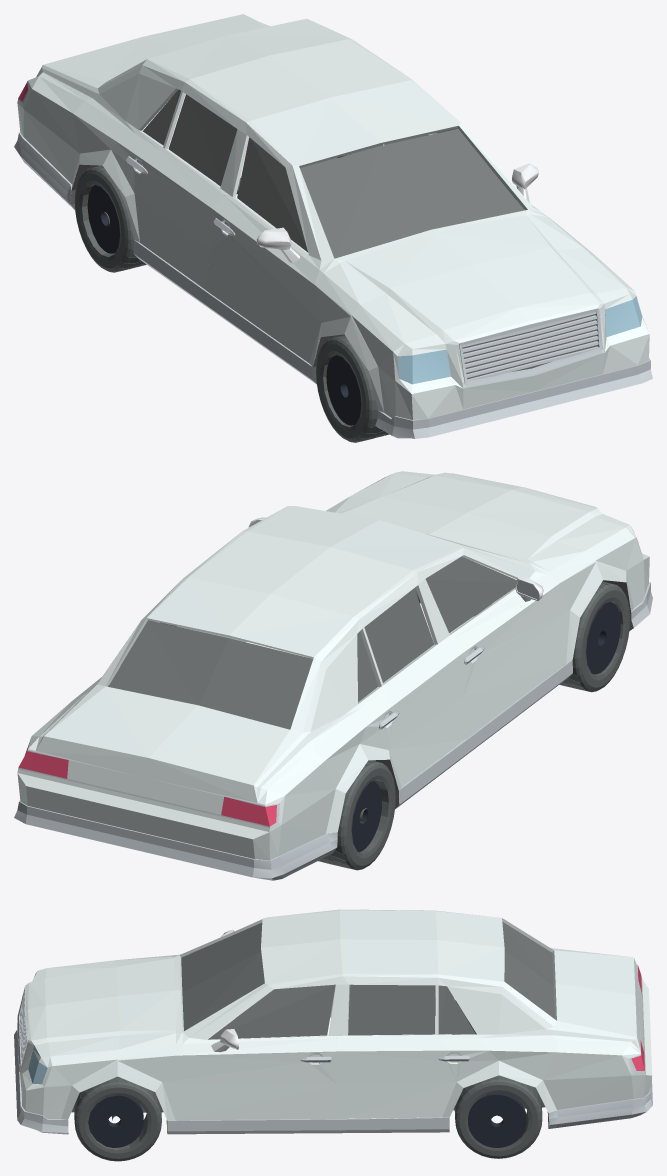
The picture shows the model from 3 angles, top to bottom: view 1: azimuth 30°, elevation 25°; view 2: azimuth 150°, elevation 25°; view 3: azimuth 270°, elevation 25°; orthographic projection. The views are drawn at different scales.
Visible parts, largest first — view 1: Body_2_3_White Parts_0, Windows_5_Glass_0, Doorsteps_Metal_0, Radiator_5_Metal_1, Tire_back_R_2_Gum_0, Tire_front_R_3_Gum_0, Headlights_5_Lights_0, Radiator_5_Bumper_0, Cylinder001, Cylinder002, Mirrors_3_Metal_1; view 2: Body_2_3_White Parts_0, Windows_5_Glass_0, Doorsteps_Metal_0, Tire_back_R_2_Gum_0, Tire_front_R_3_Gum_0, Stoplights_5_Lights_0, Cylinder001, Cylinder002, Stoplights_chrome_Metal_0; view 3: Body_2_3_White Parts_0, Windows_5_Glass_0, Doorsteps_Metal_0, Tire_front_L_3_Gum_0, Tire_back_L_3_Gum_0, Cylinder004, Cylinder003, Radiator_5_Metal_1, Mirrors_3_Metal_1, Headlights_5_Lights_0, Door_handles_3_Metal_0.
Boxes of the visible parts, x1,y1,x2,y2 form: Body_2_3_White Parts_0: [17, 14, 649, 419]; Windows_5_Glass_0: [143, 89, 524, 258]; Doorsteps_Metal_0: [14, 131, 652, 438]; Radiator_5_Metal_1: [459, 308, 602, 386]; Tire_back_R_2_Gum_0: [74, 165, 146, 272]; Tire_front_R_3_Gum_0: [316, 335, 398, 442]; Headlights_5_Lights_0: [397, 296, 641, 384]; Radiator_5_Bumper_0: [462, 314, 597, 379]; Cylinder001: [326, 355, 361, 425]; Cylinder002: [87, 185, 120, 253]; Mirrors_3_Metal_1: [257, 163, 538, 263]; Body_2_3_White Parts_0: [17, 471, 649, 860]; Windows_5_Glass_0: [108, 556, 516, 729]; Doorsteps_Metal_0: [14, 582, 652, 880]; Tire_back_R_2_Gum_0: [318, 760, 395, 870]; Tire_front_R_3_Gum_0: [559, 581, 630, 692]; Stoplights_5_Lights_0: [18, 747, 276, 826]; Cylinder001: [586, 602, 620, 674]; Cylinder002: [351, 781, 381, 852]; Stoplights_chrome_Metal_0: [18, 746, 279, 827]; Body_2_3_White Parts_0: [20, 909, 652, 1120]; Windows_5_Glass_0: [181, 922, 554, 1039]; Doorsteps_Metal_0: [14, 1022, 652, 1134]; Tire_front_L_3_Gum_0: [74, 1076, 161, 1161]; Tire_back_L_3_Gum_0: [454, 1075, 542, 1158]; Cylinder004: [468, 1093, 526, 1147]; Cylinder003: [88, 1095, 143, 1147]; Radiator_5_Metal_1: [17, 985, 27, 1071]; Mirrors_3_Metal_1: [211, 929, 238, 1052]; Headlights_5_Lights_0: [28, 1050, 47, 1084]; Door_handles_3_Metal_0: [300, 1055, 470, 1062].
Size of the model in its own units: 316 by 223 by 762.
